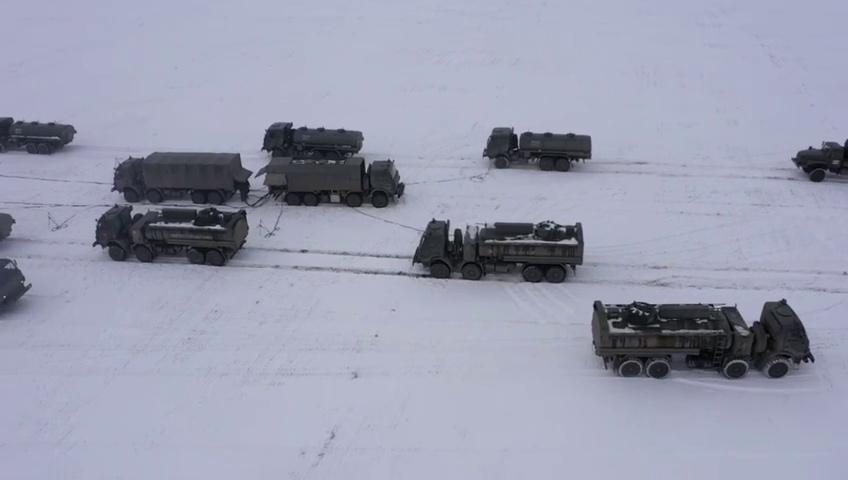truck: (591, 296, 816, 380), (410, 218, 588, 284), (90, 202, 249, 265), (262, 156, 406, 209), (110, 152, 251, 204), (483, 127, 594, 172), (262, 123, 365, 160), (0, 113, 79, 156), (794, 138, 848, 188)
